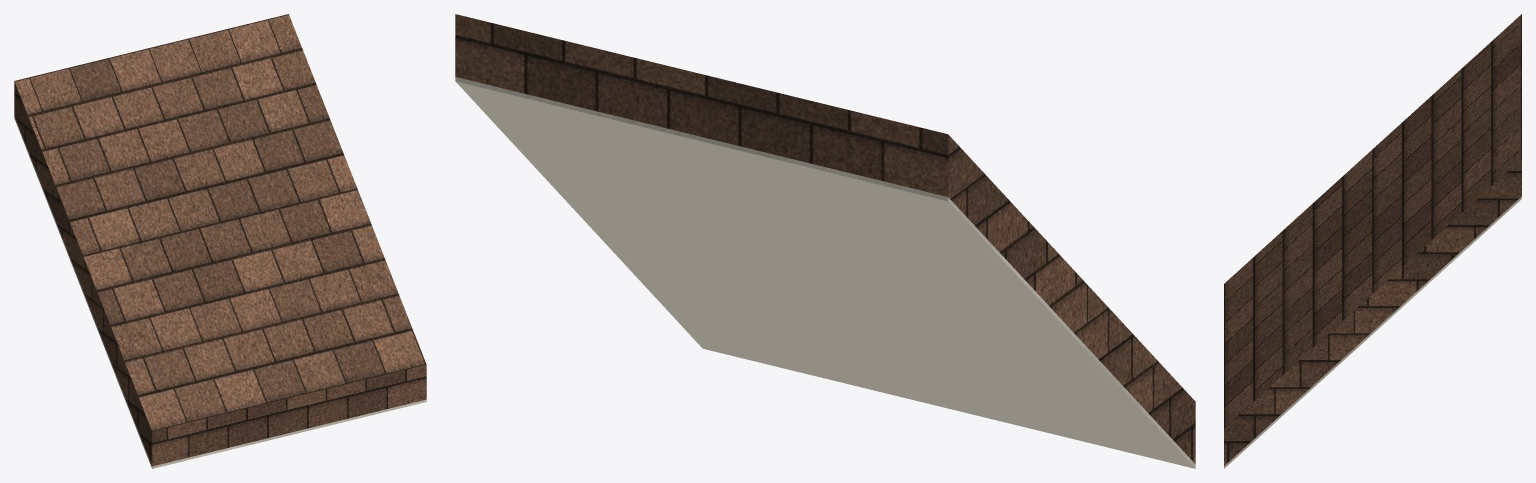
The model's file is roof_valley_end.glb.
The picture shows the model from 3 angles, left to right: view 1: azimuth 30°, elevation 25°; view 2: azimuth 150°, elevation 25°; view 3: azimuth 270°, elevation 25°; orthographic projection. The views are drawn at different scales.
Parts seen in each view (by area): view 1: roof_valley_end_shingle, roof_valley_end_plaster; view 2: roof_valley_end_plaster, roof_valley_end_shingle; view 3: roof_valley_end_shingle, roof_valley_end_plaster.
Boxes of the visible parts, x1,y1,x2,y2 form: roof_valley_end_shingle: (14,14,426,466); roof_valley_end_plaster: (14,116,426,468); roof_valley_end_plaster: (455,77,1195,468); roof_valley_end_shingle: (455,14,1195,463); roof_valley_end_shingle: (1224,14,1521,465); roof_valley_end_plaster: (1224,196,1521,468).
Size of the model in its own units: 2.3 by 2.3 by 2.
2 materials, 2 textured.
